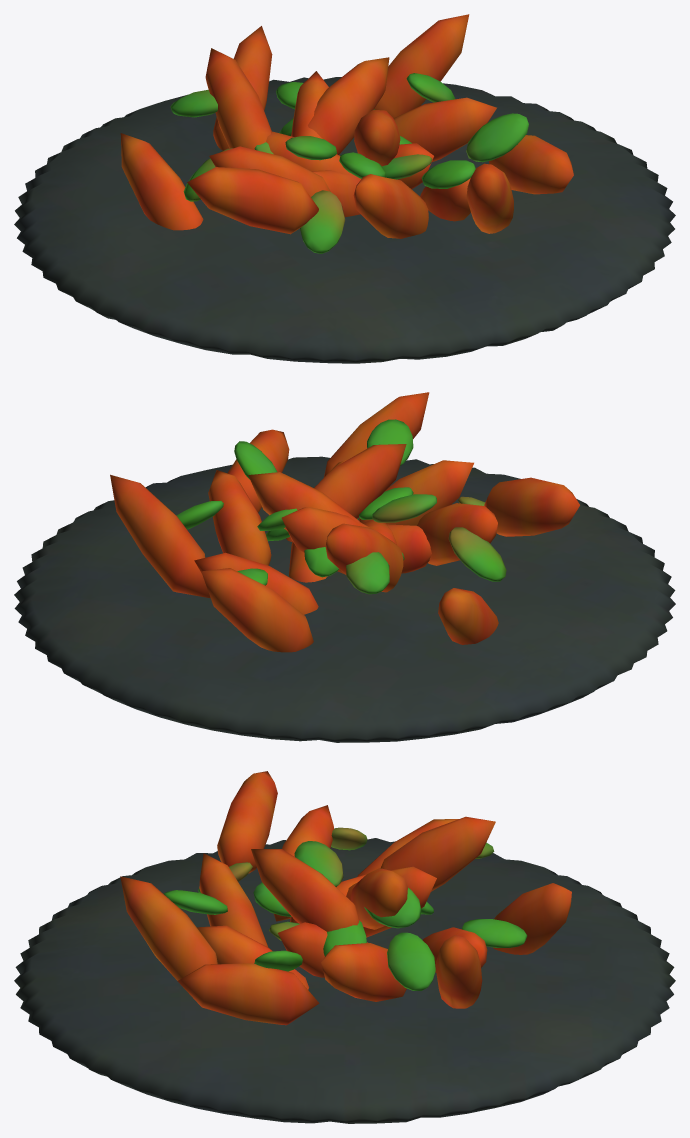
Rendered from crispy-chilli-babycorn-ultralight.glb.
The picture shows the model from 3 angles, top to bottom: view 1: azimuth 30°, elevation 25°; view 2: azimuth 150°, elevation 25°; view 3: azimuth 270°, elevation 25°; orthographic projection.
Visible parts, largest first — view 1: Mesh_Wok_Shallow_Dish, Mesh_Crispy_Chilli_Babycorn_Spears, Mesh_Wok_Bell_Peppers_And_Scallions; view 2: Mesh_Wok_Shallow_Dish, Mesh_Crispy_Chilli_Babycorn_Spears, Mesh_Wok_Bell_Peppers_And_Scallions; view 3: Mesh_Wok_Shallow_Dish, Mesh_Crispy_Chilli_Babycorn_Spears, Mesh_Wok_Bell_Peppers_And_Scallions.
Part boxes in pixels (box(x1,y1,x2,y2)): Mesh_Wok_Shallow_Dish: box(14, 77, 675, 363); Mesh_Crispy_Chilli_Babycorn_Spears: box(120, 14, 573, 238); Mesh_Wok_Bell_Peppers_And_Scallions: box(170, 73, 528, 253); Mesh_Wok_Shallow_Dish: box(14, 456, 675, 742); Mesh_Crispy_Chilli_Babycorn_Spears: box(110, 392, 579, 652); Mesh_Wok_Bell_Peppers_And_Scallions: box(176, 419, 506, 594); Mesh_Wok_Shallow_Dish: box(14, 838, 675, 1123); Mesh_Crispy_Chilli_Babycorn_Spears: box(120, 771, 571, 1025); Mesh_Wok_Bell_Peppers_And_Scallions: box(163, 827, 527, 990).
Size of the model in its own units: 2 by 0.5484 by 2.
3 materials, 3 textured.
